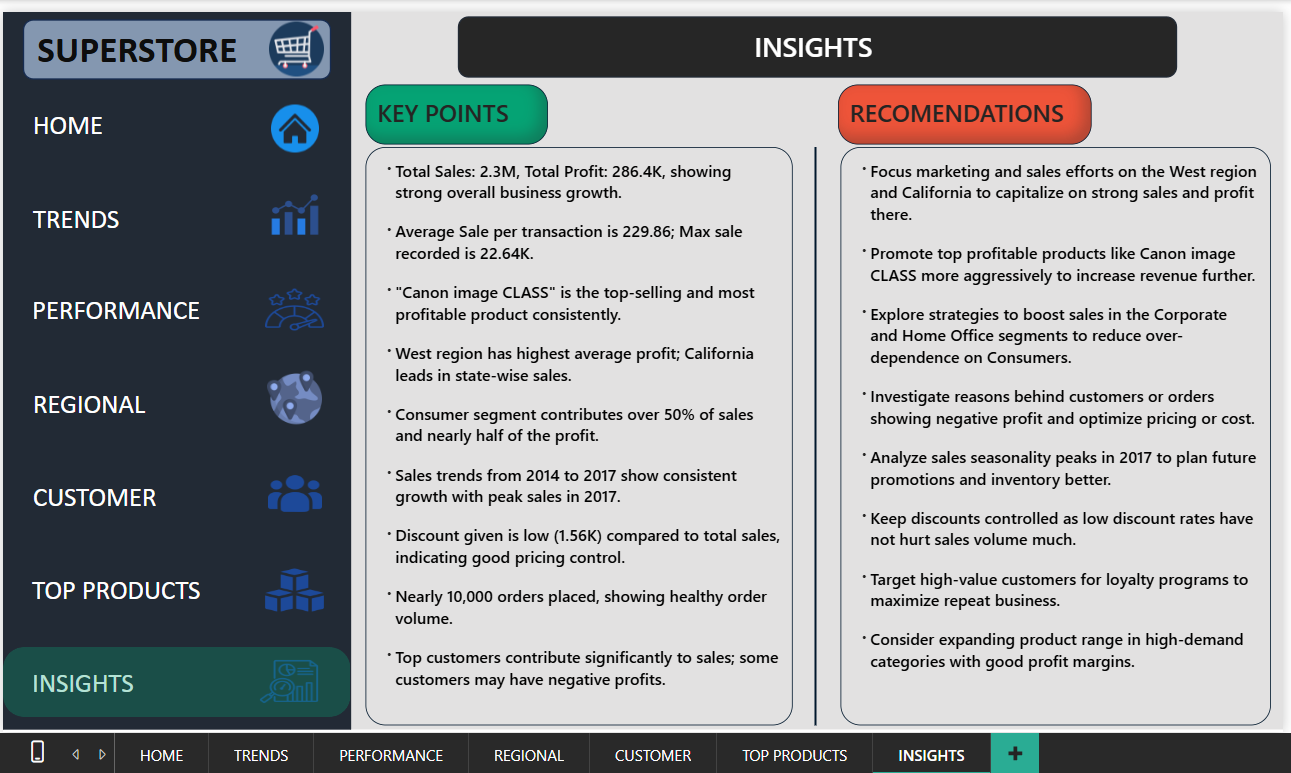

What the dashboard file says about the page in this screenshot:
{"tool":"powerbi","page":{"name":"INSIGHTS","canvas":[1280,720],"ordinal":6},"visuals":[{"type":"shape","box":[0,635,347.5,70],"z":0},{"type":"actionButton","box":[0,81.2,347.5,70],"z":1},{"type":"actionButton","box":[0,167.5,347.5,70],"z":2},{"type":"actionButton","box":[0,261.2,347.5,70],"z":3},{"type":"actionButton","box":[0,360,347.5,70],"z":4},{"type":"actionButton","box":[0,447.5,347.5,70],"z":5},{"type":"actionButton","box":[0,540,347.5,70],"z":6},{"type":"textbox","box":[746.2,11.2,161.2,52.5],"z":7},{"type":"textbox","box":[362.5,135,427.5,578.8],"z":8},{"type":"textbox","box":[837.5,135,430,578.8],"z":9},{"type":"shape","box":[790,135,45,578.8],"z":10},{"type":"textbox","box":[362.5,72.5,182.5,60],"z":11},{"type":"textbox","box":[835,72.5,253.8,60],"z":12}]}

Visuals, with their boxes on the page's 1280x720 design canvas (x1, y1, x2, y2). These are canvas units, not pixel positions in the 1291x773 screenshot, which may show the page scaled, cropped or inside an application window:
shape: l=0, t=635, r=348, b=705
actionButton: l=0, t=81, r=348, b=151
actionButton: l=0, t=168, r=348, b=238
actionButton: l=0, t=261, r=348, b=331
actionButton: l=0, t=360, r=348, b=430
actionButton: l=0, t=448, r=348, b=518
actionButton: l=0, t=540, r=348, b=610
textbox: l=746, t=11, r=907, b=64
textbox: l=362, t=135, r=790, b=714
textbox: l=838, t=135, r=1268, b=714
shape: l=790, t=135, r=835, b=714
textbox: l=362, t=72, r=545, b=132
textbox: l=835, t=72, r=1089, b=132
